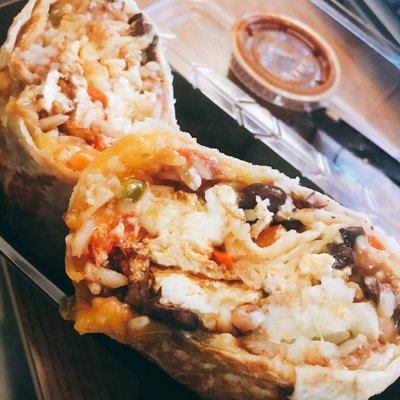sandwich: (52, 120, 400, 399)
